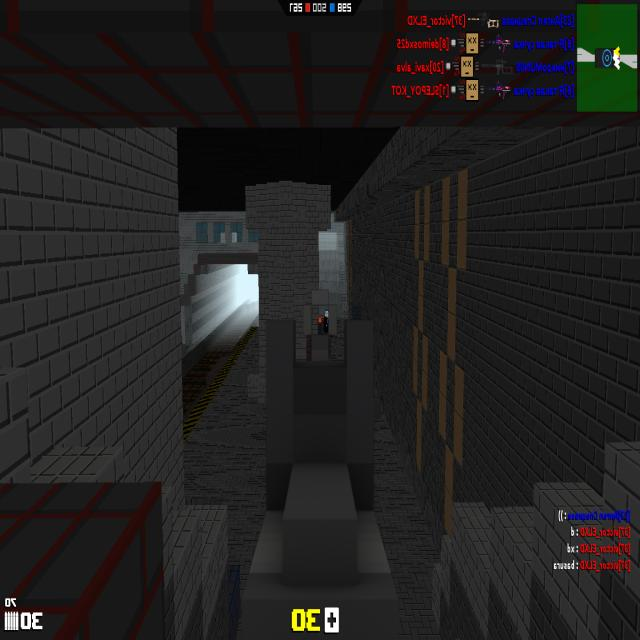enemy: (323, 308, 329, 333)
